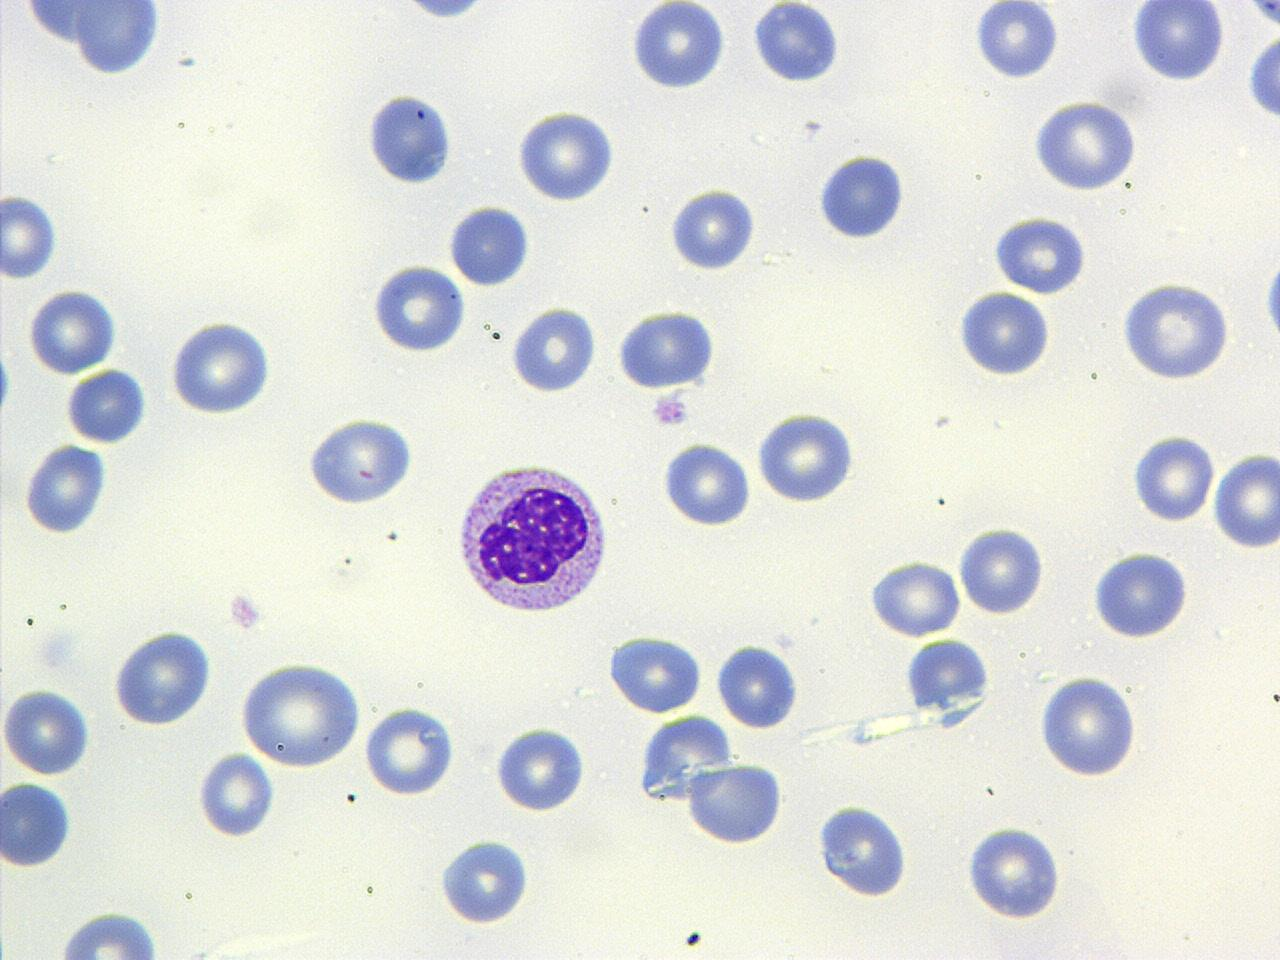Platelets: (166, 317, 278, 418), (959, 822, 1069, 922), (513, 105, 623, 204), (815, 148, 916, 245), (22, 441, 117, 537), (629, 3, 730, 94), (493, 723, 592, 814), (658, 440, 754, 530), (989, 212, 1091, 295), (1129, 428, 1217, 523), (666, 186, 760, 274), (26, 288, 120, 373), (194, 750, 277, 838), (970, 3, 1063, 80), (63, 365, 153, 445), (1, 190, 62, 279), (1246, 24, 1280, 126), (396, 2, 494, 23), (34, 628, 81, 672), (226, 588, 266, 632), (1262, 254, 1280, 347), (649, 392, 690, 432), (0, 350, 15, 415), (1253, 1, 1279, 25)
RBC: (236, 656, 362, 771), (1037, 671, 1141, 778), (168, 316, 272, 419), (110, 624, 214, 728), (959, 822, 1065, 922), (1032, 97, 1140, 195), (514, 105, 618, 204), (753, 408, 860, 504), (954, 284, 1053, 380), (628, 0, 729, 94), (361, 704, 458, 797), (492, 722, 588, 815), (21, 438, 109, 538), (659, 438, 754, 530), (686, 760, 786, 848), (27, 284, 121, 376), (2, 682, 92, 777), (1131, 427, 1217, 526), (666, 184, 760, 273), (606, 630, 703, 716), (957, 522, 1044, 616), (1129, 0, 1225, 84), (867, 556, 962, 638), (712, 642, 800, 730), (196, 746, 276, 840), (1211, 448, 1280, 552), (48, 906, 170, 958), (0, 190, 61, 282)
WBC: (245, 0, 824, 478), (867, 0, 1280, 454), (966, 0, 1280, 204), (450, 456, 614, 620), (241, 657, 366, 769), (8, 0, 174, 80), (1116, 276, 1236, 383), (304, 410, 421, 511), (168, 314, 280, 417), (1028, 96, 1142, 195), (110, 625, 218, 728), (1089, 546, 1195, 644), (754, 408, 862, 506), (813, 800, 914, 899), (952, 286, 1057, 380), (625, 1, 730, 94), (367, 260, 470, 354), (362, 89, 459, 188), (360, 702, 460, 798), (436, 834, 536, 929), (812, 150, 912, 244), (636, 712, 733, 808), (612, 306, 720, 391), (508, 301, 602, 396), (493, 723, 590, 816), (686, 761, 790, 846), (900, 635, 994, 729), (22, 440, 110, 537), (990, 212, 1089, 296), (608, 632, 708, 716), (1127, 0, 1227, 83), (713, 640, 802, 732), (748, 2, 846, 86), (447, 200, 534, 290), (1, 774, 80, 870), (41, 907, 171, 959), (1247, 16, 1279, 133)
